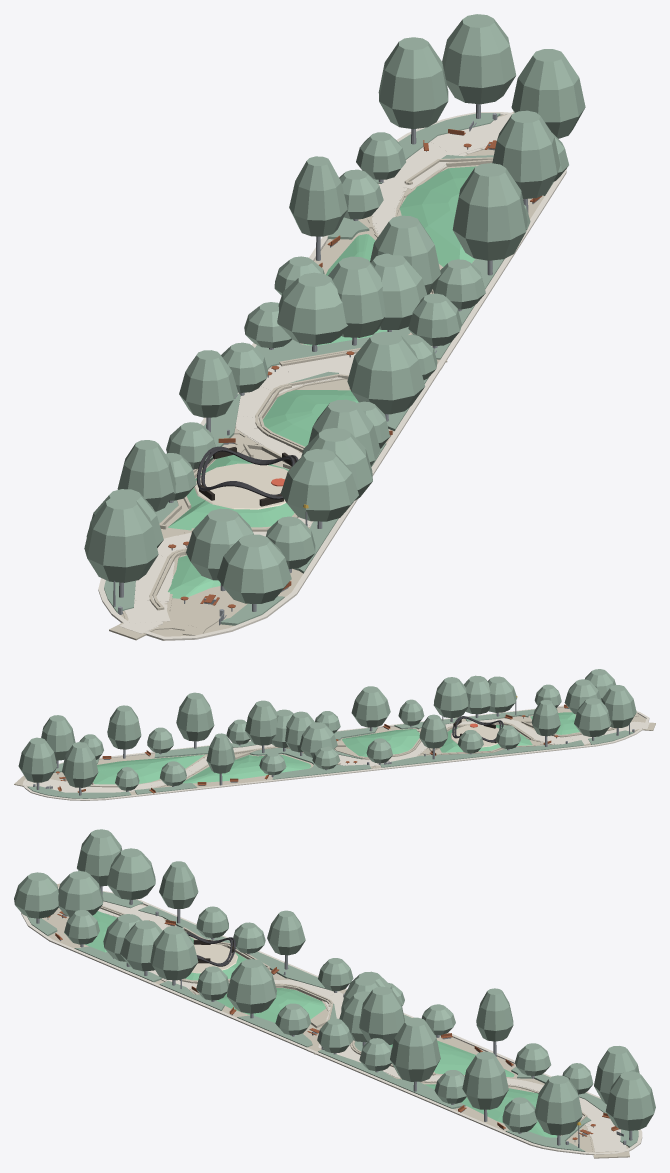
Rendered from 64-south-park.glb.
3 renders of one model, top to bottom at view 1: azimuth 30°, elevation 25°; view 2: azimuth 150°, elevation 25°; view 3: azimuth 270°, elevation 25°, orthographic. The views are drawn at different scales.
Visible parts, largest first — view 1: tree_crowns, path_glow, lawns, beds, ground_plate, kerb, seat_walls, play_surfacing, path_field, play_mound, shout_tubes, tree_trunks; view 2: tree_crowns, beds, lawns, path_glow, kerb, ground_plate, seat_walls, path_field, play_surfacing, play_mound, tree_trunks, furniture_wood (+1 smaller); view 3: tree_crowns, beds, lawns, path_glow, kerb, ground_plate, seat_walls, play_surfacing, path_field, furniture_wood, tree_trunks.
Part boxes in pixels (x1=…): tree_crowns: x1=84, y1=14, x2=585, y2=603; path_glow: x1=119, y1=113, x2=513, y2=633; lawns: x1=168, y1=166, x2=476, y2=598; beds: x1=104, y1=113, x2=553, y2=625; ground_plate: x1=120, y1=148, x2=544, y2=636; kerb: x1=98, y1=112, x2=566, y2=640; seat_walls: x1=149, y1=157, x2=493, y2=610; play_surfacing: x1=194, y1=463, x2=287, y2=509; path_field: x1=109, y1=112, x2=514, y2=640; play_mound: x1=168, y1=455, x2=294, y2=530; shout_tubes: x1=196, y1=446, x2=298, y2=499; tree_trunks: x1=119, y1=104, x2=528, y2=611; tree_crowns: x1=18, y1=669, x2=636, y2=790; beds: x1=28, y1=709, x2=633, y2=798; lawns: x1=93, y1=712, x2=579, y2=784; path_glow: x1=23, y1=718, x2=649, y2=792; kerb: x1=22, y1=705, x2=649, y2=800; ground_plate: x1=50, y1=707, x2=646, y2=794; seat_walls: x1=90, y1=721, x2=616, y2=787; path_field: x1=14, y1=713, x2=655, y2=795; play_surfacing: x1=451, y1=724, x2=499, y2=747; play_mound: x1=439, y1=724, x2=532, y2=752; tree_trunks: x1=36, y1=712, x2=618, y2=795; furniture_wood: x1=56, y1=704, x2=568, y2=793; tree_crowns: x1=14, y1=829, x2=655, y2=1135; beds: x1=27, y1=891, x2=638, y2=1151; lawns: x1=64, y1=911, x2=557, y2=1137; path_glow: x1=58, y1=887, x2=626, y2=1152; kerb: x1=21, y1=891, x2=642, y2=1155; ground_plate: x1=42, y1=904, x2=628, y2=1152; seat_walls: x1=100, y1=905, x2=587, y2=1121; play_surfacing: x1=191, y1=944, x2=237, y2=973; path_field: x1=53, y1=883, x2=629, y2=1158; furniture_wood: x1=47, y1=911, x2=618, y2=1139; tree_trunks: x1=36, y1=886, x2=632, y2=1145.
Bounding box in the file's own units: 122 × 15 × 121.
